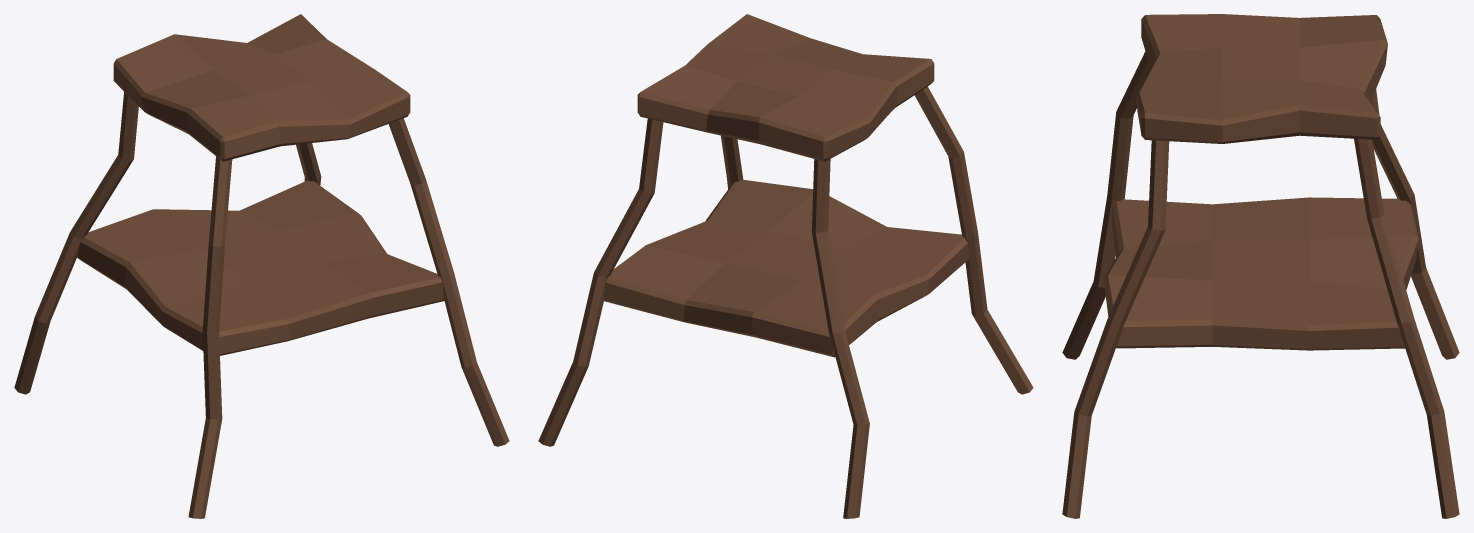
File: table_small_3.fbx
The picture shows the model from 3 angles, left to right: view 1: azimuth 30°, elevation 25°; view 2: azimuth 150°, elevation 25°; view 3: azimuth 270°, elevation 25°; orthographic projection. The views are drawn at different scales.
Parts seen in each view (by area): view 1: Cube, Cube.001, Cylinder.002, Cylinder.001, Cylinder.003, Cylinder; view 2: Cube, Cube.001, Cylinder.003, Cylinder, Cylinder.002, Cylinder.001; view 3: Cube, Cube.001, Cylinder, Cylinder.001, Cylinder.002, Cylinder.003.
Part boxes in pixels (x1,y1,x2,y2): Cube: (77, 180, 444, 355); Cube.001: (113, 14, 410, 161); Cylinder.002: (188, 156, 232, 518); Cylinder.001: (388, 118, 509, 446); Cylinder.003: (14, 92, 138, 394); Cylinder: (296, 143, 321, 185); Cube: (604, 179, 968, 357); Cube.001: (637, 14, 934, 161); Cylinder.003: (812, 159, 869, 518); Cylinder: (538, 118, 663, 446); Cylinder.002: (914, 86, 1033, 394); Cylinder.001: (721, 135, 743, 188); Cube: (1103, 197, 1418, 350); Cube.001: (1136, 14, 1387, 143); Cylinder: (1354, 138, 1459, 518); Cylinder.001: (1062, 140, 1169, 518); Cylinder.002: (1062, 51, 1150, 359); Cylinder.003: (1370, 89, 1459, 359).
Size of the model in its own units: 267 by 282 by 266.
